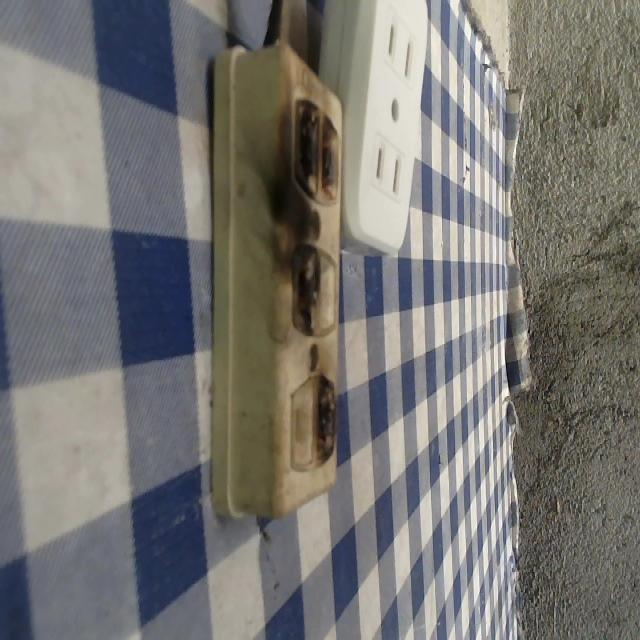-: (286, 95, 347, 208), (305, 371, 357, 464), (284, 240, 328, 341)
